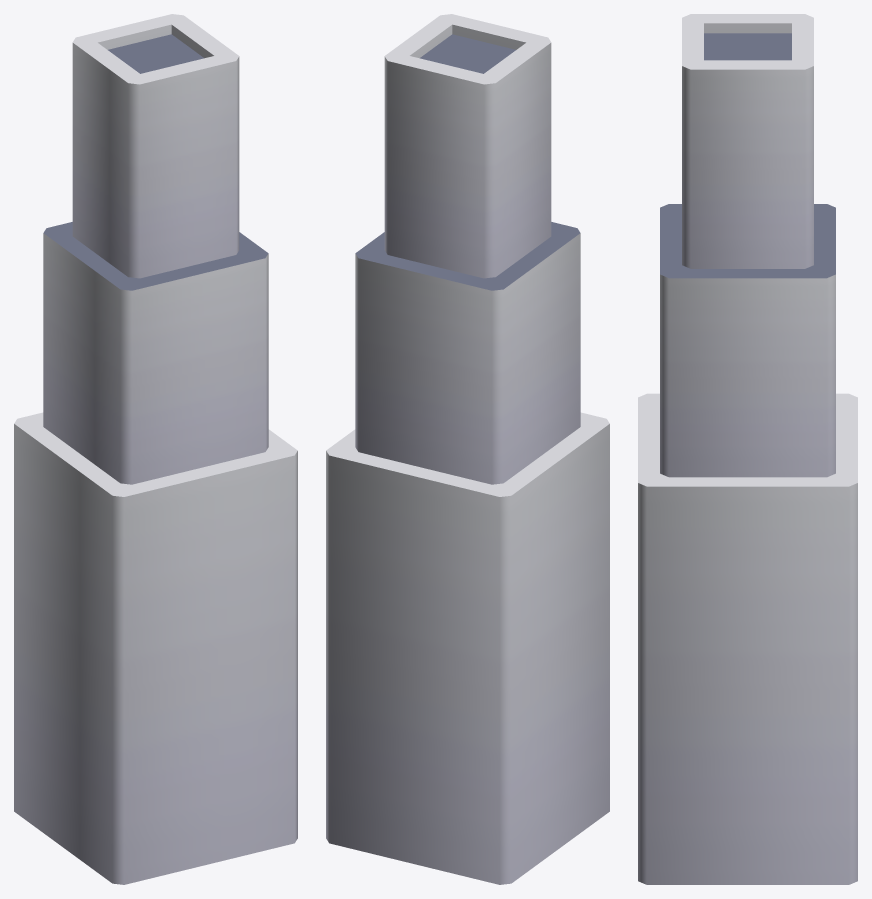
The model's file is low-detail-building-f.glb.
The picture shows the model from 3 angles, left to right: view 1: azimuth 30°, elevation 25°; view 2: azimuth 150°, elevation 25°; view 3: azimuth 270°, elevation 25°; orthographic projection. The views are drawn at different scales.
Parts seen in each view (by area): view 1: low-detail-building-f; view 2: low-detail-building-f; view 3: low-detail-building-f.
Part boxes in pixels (<box>): low-detail-building-f: <box>14,14,297,884</box>; low-detail-building-f: <box>326,14,609,884</box>; low-detail-building-f: <box>638,14,857,884</box>.
Bounding box in the file's own units: 0.5 × 2 × 0.5.
1 material, 1 textured.
